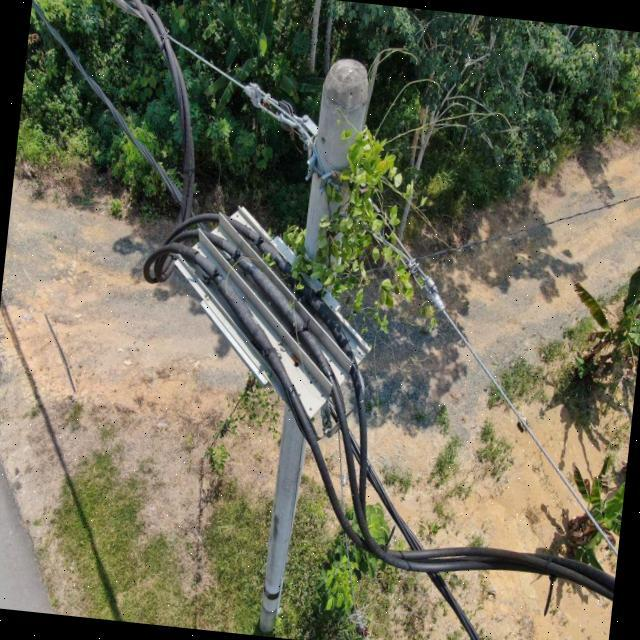critical vegetation: (271, 111, 434, 338)
